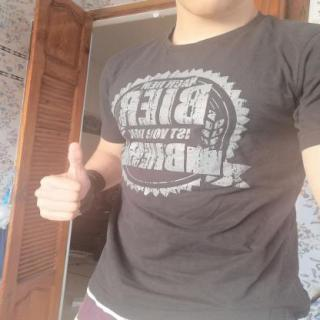ALIF: (27, 136, 100, 227)
